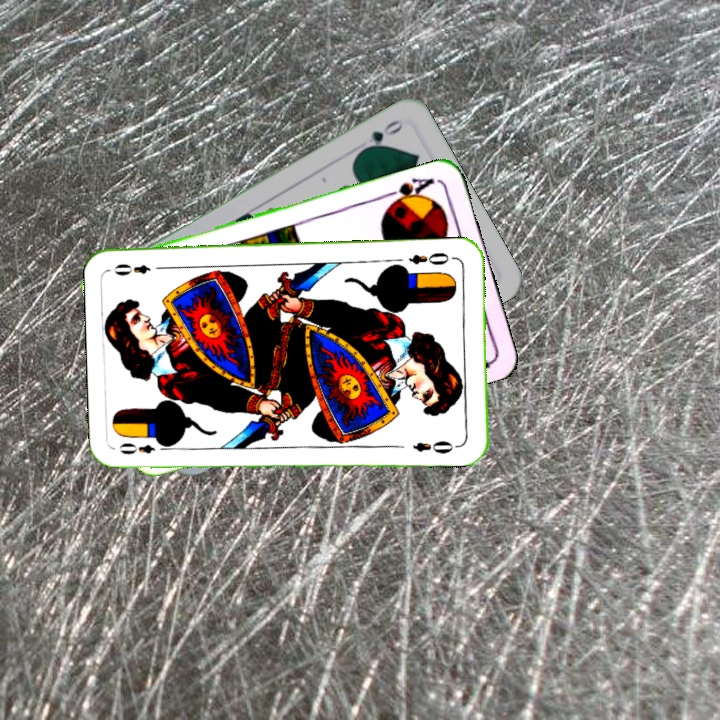EO: (405, 248, 452, 267), (115, 440, 158, 457)
GO: (355, 115, 406, 156)
SA: (381, 173, 437, 209)
